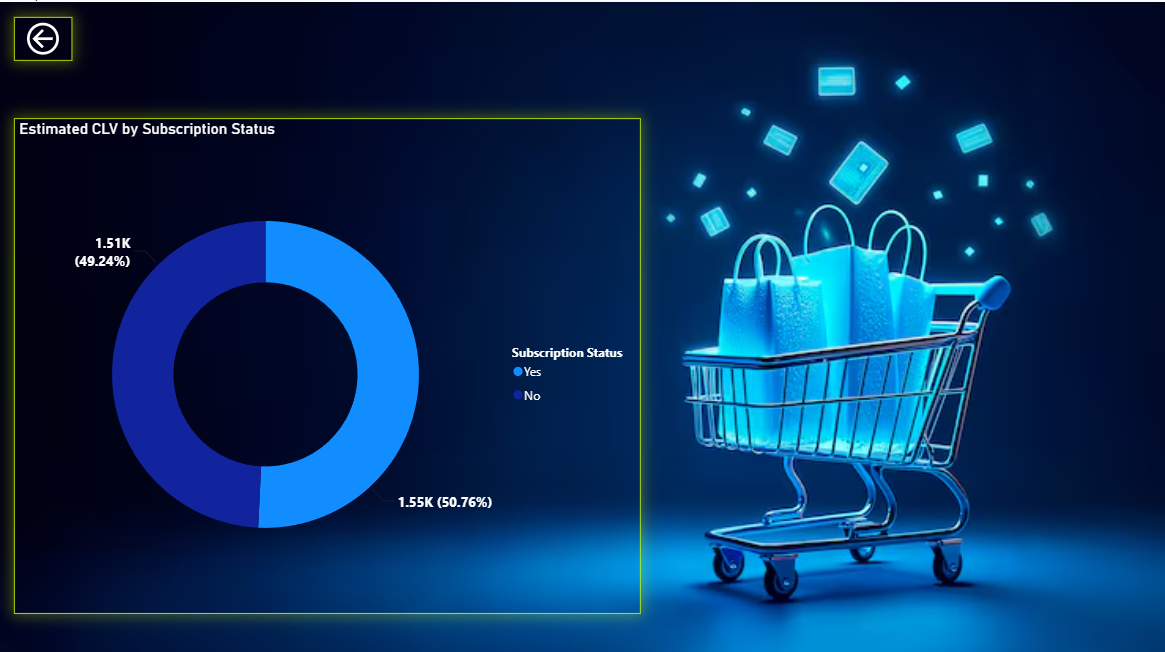

What the dashboard file says about the page in this screenshot:
{"tool":"powerbi","page":{"name":"Q5 – Subscribed vs non-subscribed","canvas":[1280,720],"ordinal":5},"visuals":[{"type":"pieChart","fields":{"Category":["customer.Subscription Status"],"Y":["measure.Avg Purchase Amount"]},"box":[144,64,944,576],"z":0}]}

Visuals, with their boxes in screenshot pixels (x1, y1, x2, y2), scaled from the page's 1280x720 canvas onto the 1165x652 screenshot:
pieChart - customer.Subscription Status x measure.Avg Purchase Amount: locate(131, 58, 990, 580)
